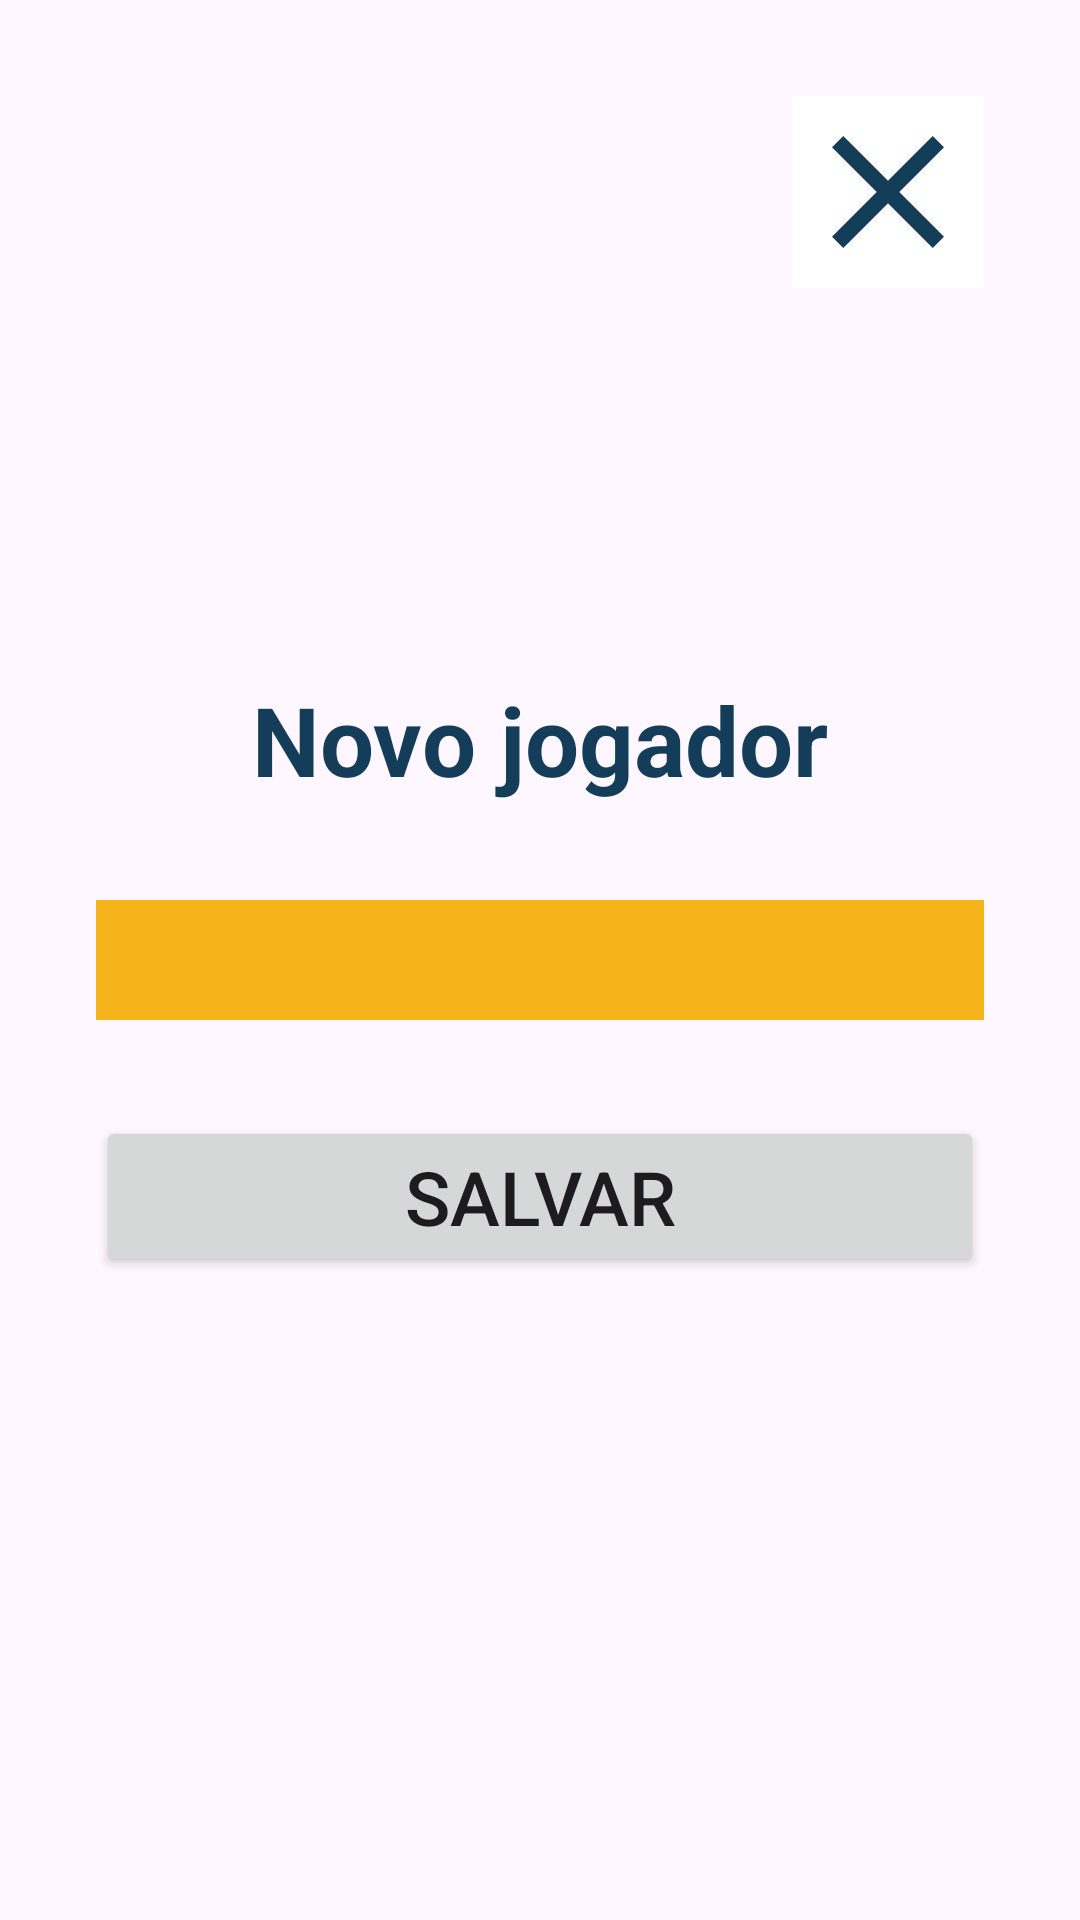

Named icons in this screenshot (1080 × 1920) and their centers, [x,y]:
close: [888,192]
